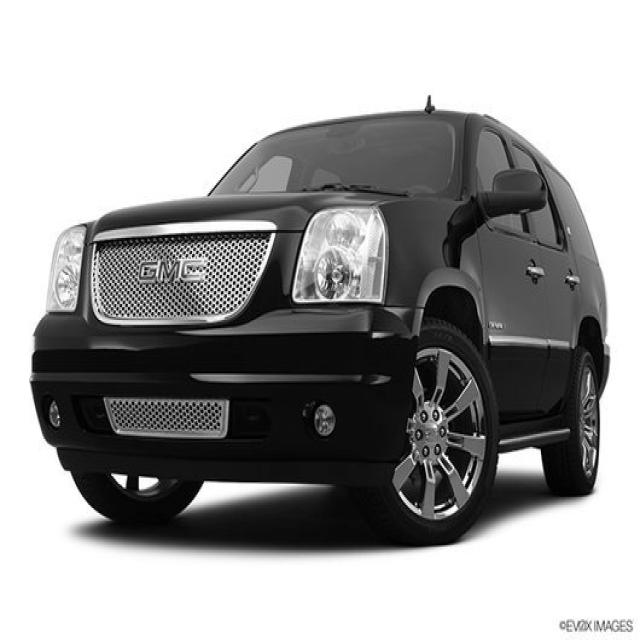car: (29, 95, 610, 547)
